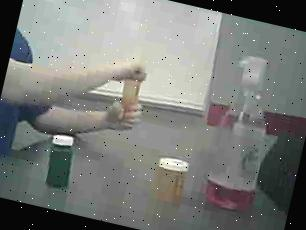Bottle A: (108, 60, 155, 136)
Bottle B: (148, 152, 194, 210)
Bottle C: (39, 130, 82, 194)
hazard: (199, 49, 295, 224)
